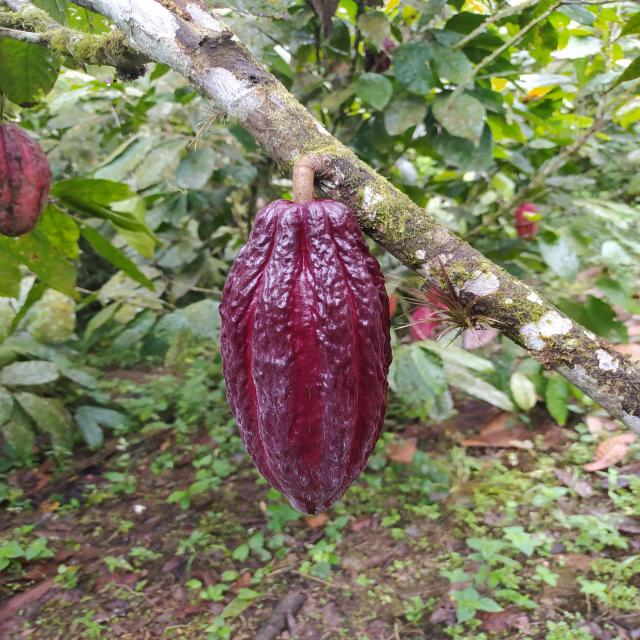Sana: (218, 196, 394, 516)
